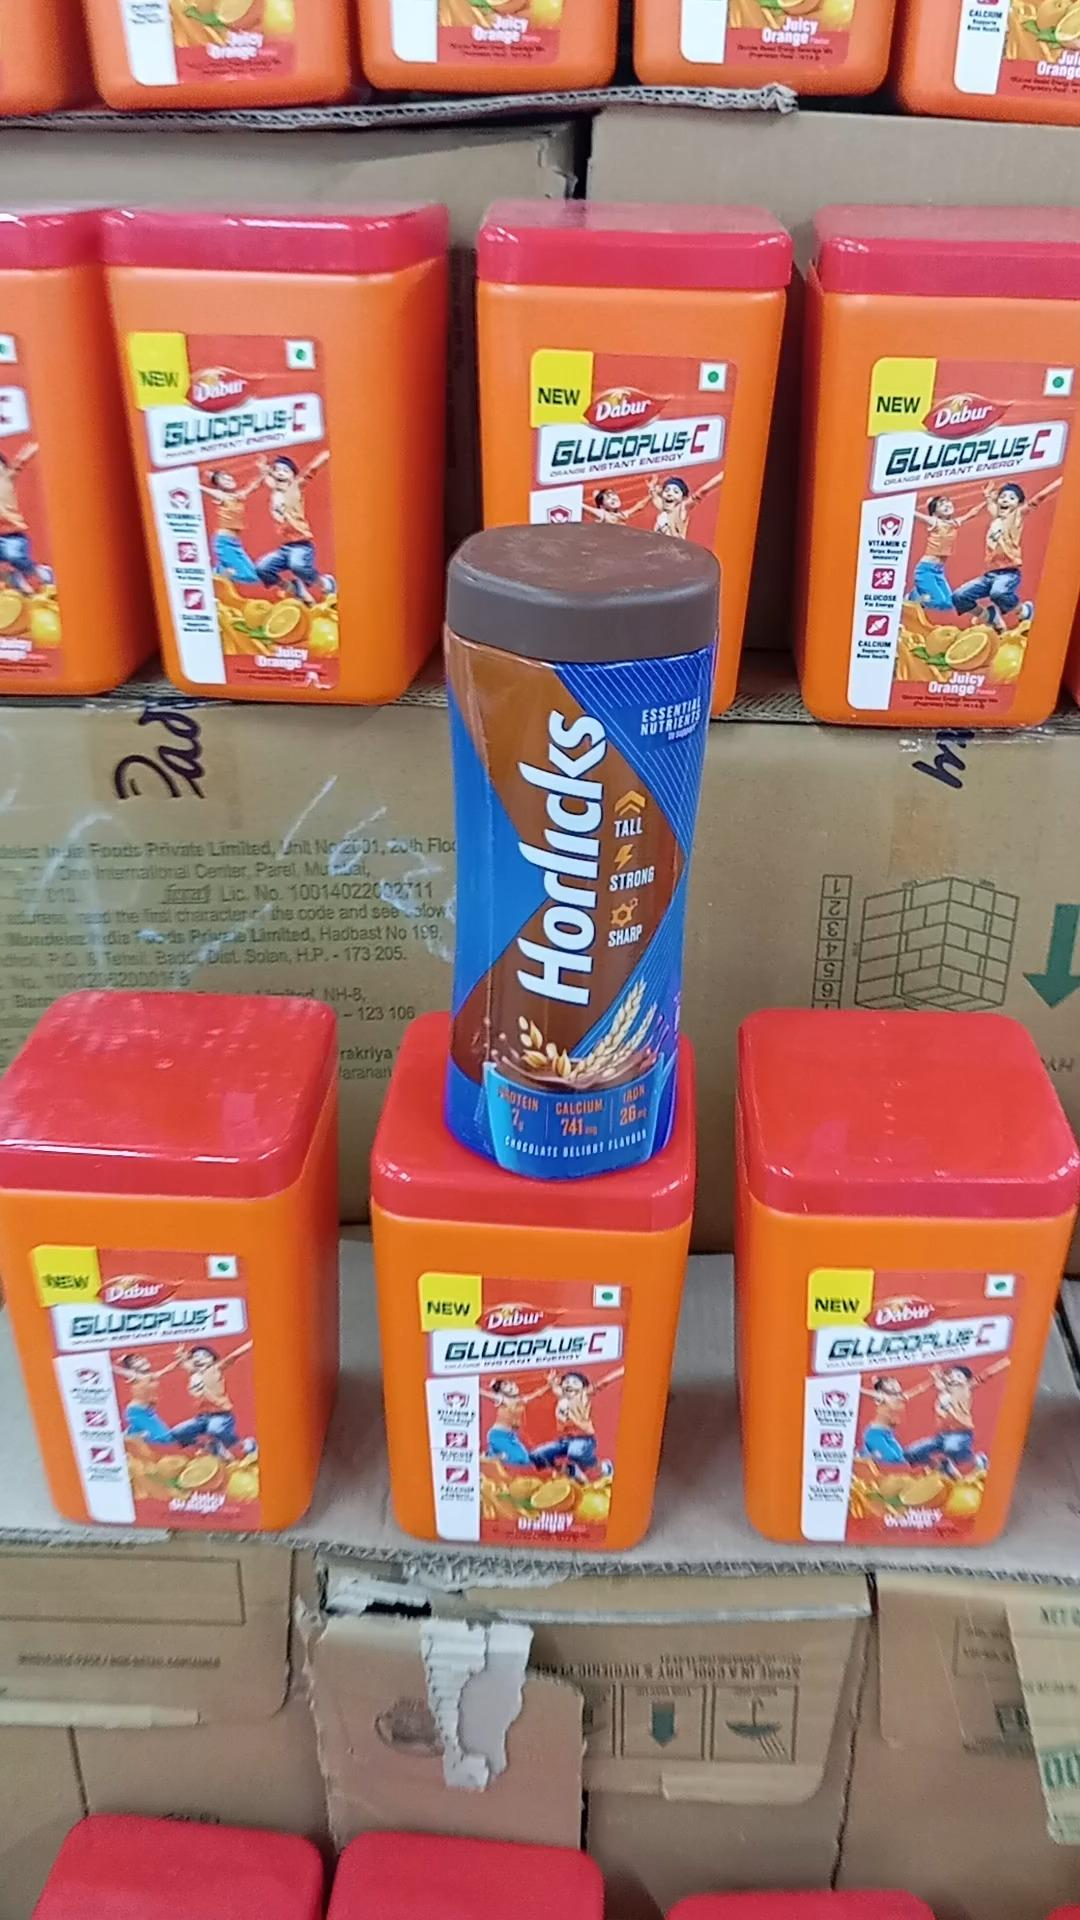HORLICK_CHOCOLATE_500_G_JAR: (440, 526, 698, 1164)
